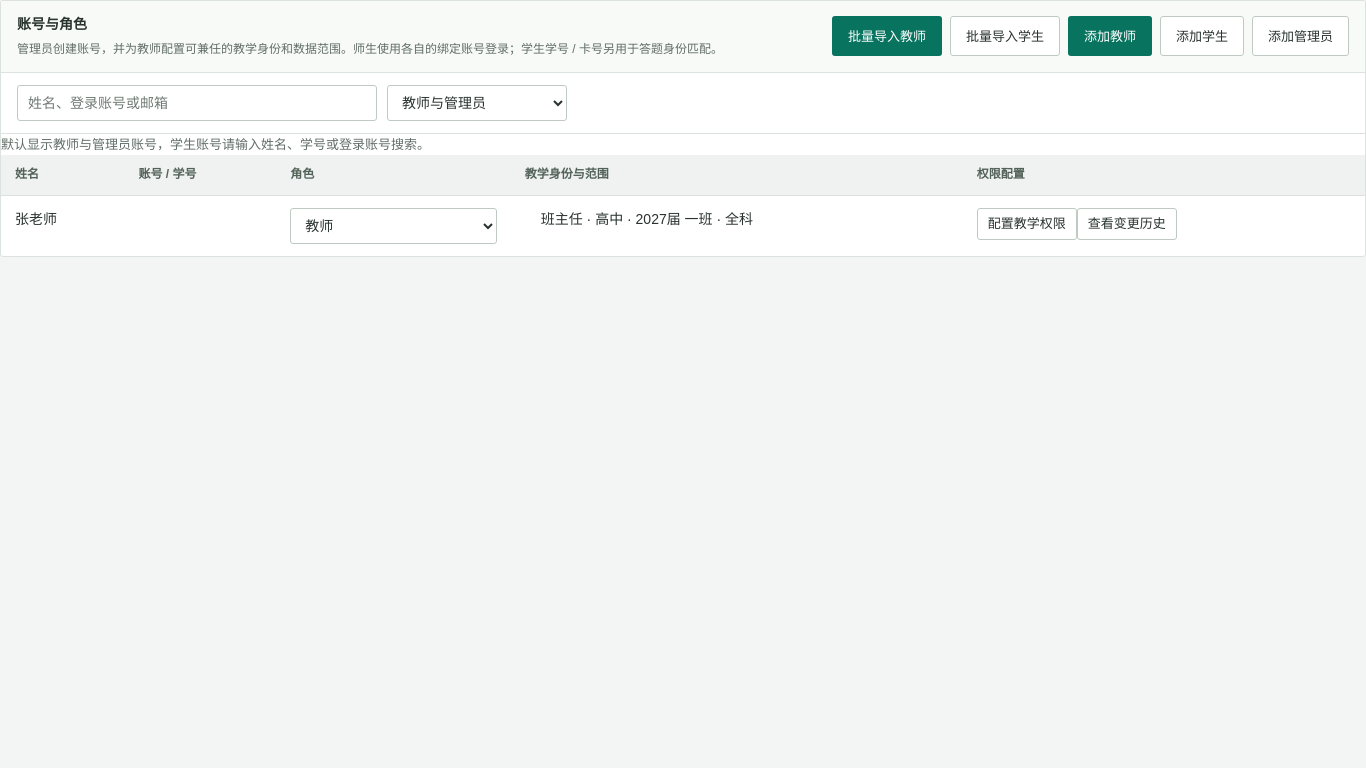
Scenario: reads immutable named audit snapshots, recovers from failure and appends older history by its opaque cursor
Click the button "查看变更历史" at x=1127, y=224, box [1077,208,1177,240]
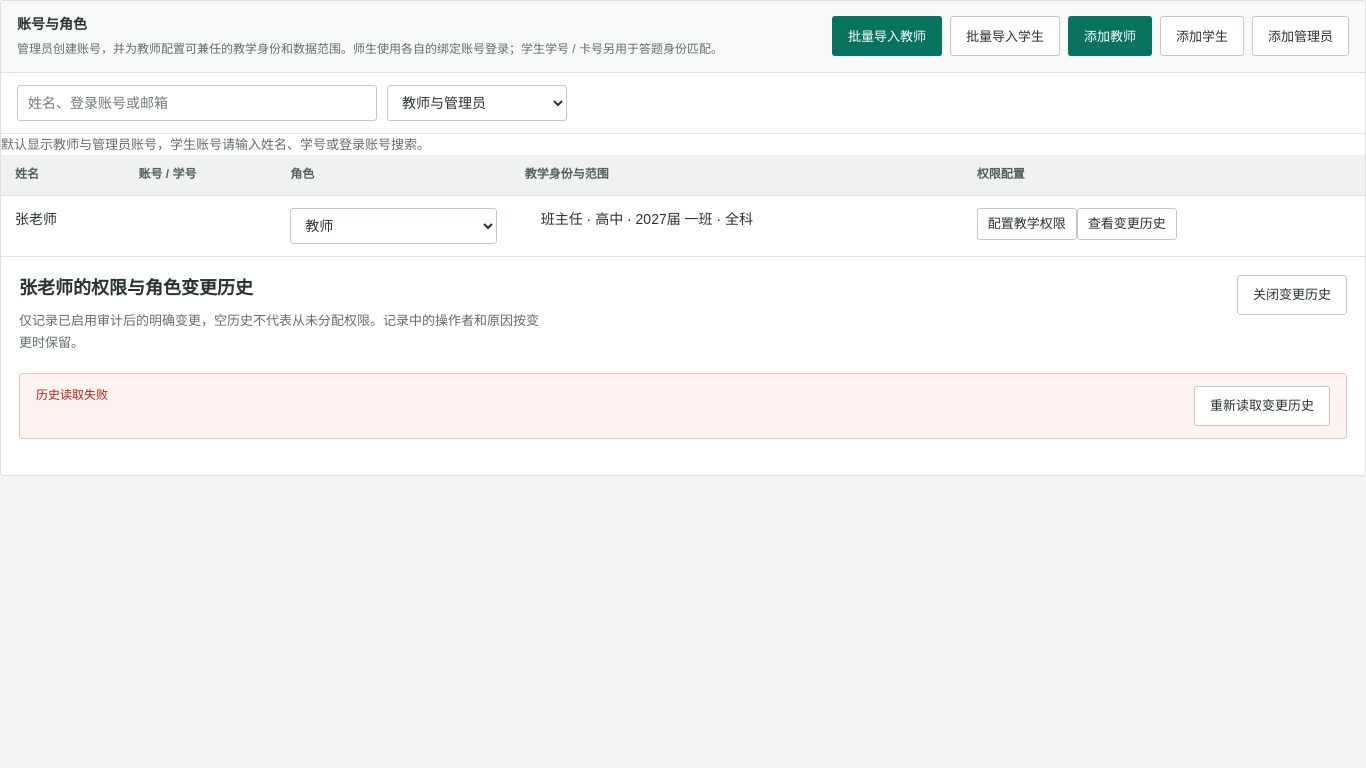
expect the text "历史读取失败" is shown: met, box [36,388,108,402]
Click the button "重新读取变更历史" at x=1262, y=406, box [1194,386,1330,426]
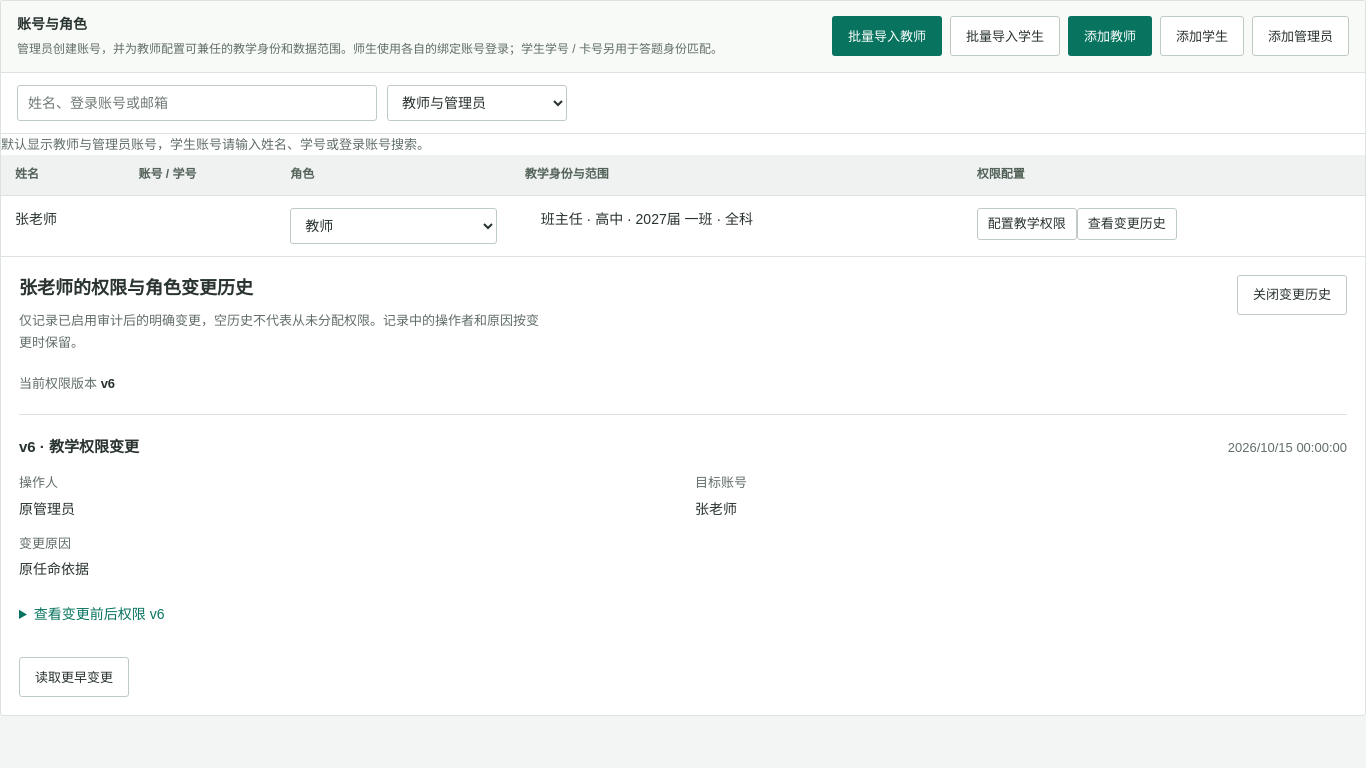
expect the text "原管理员" is shown: met, box [19,501,75,517]
expect the text "原任命依据" is shown: met, box [19,561,89,577]
expect the text "变更前" is shown: met, box [34,606,164,622]
Click the button "读取更早变更" at x=74, y=677, box [19,657,129,697]
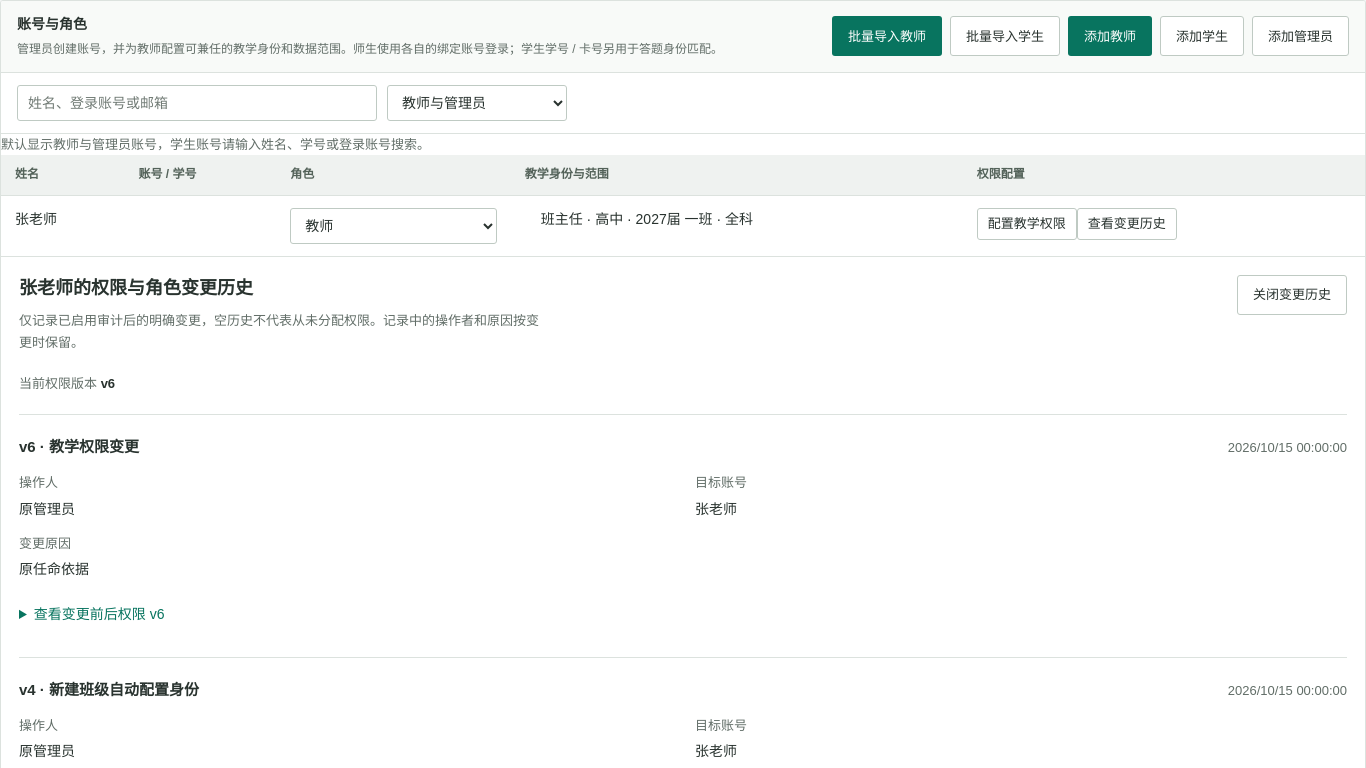
expect the text "新建班级自动配置身份" is shown: met, box [49,681,199,698]
